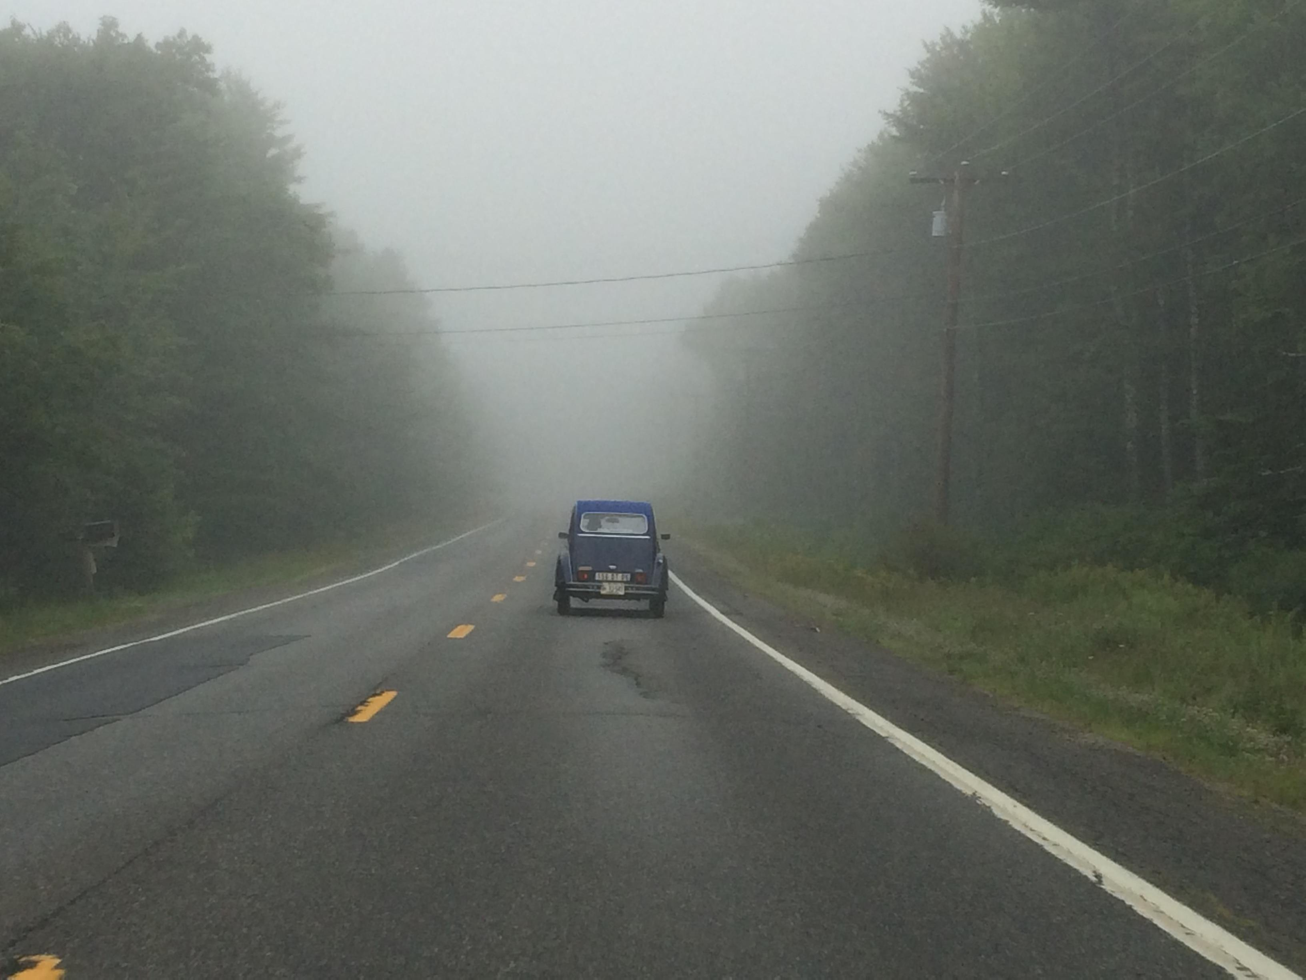car: (552, 499, 671, 619)
